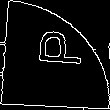P_W: (26, 35, 84, 75)
